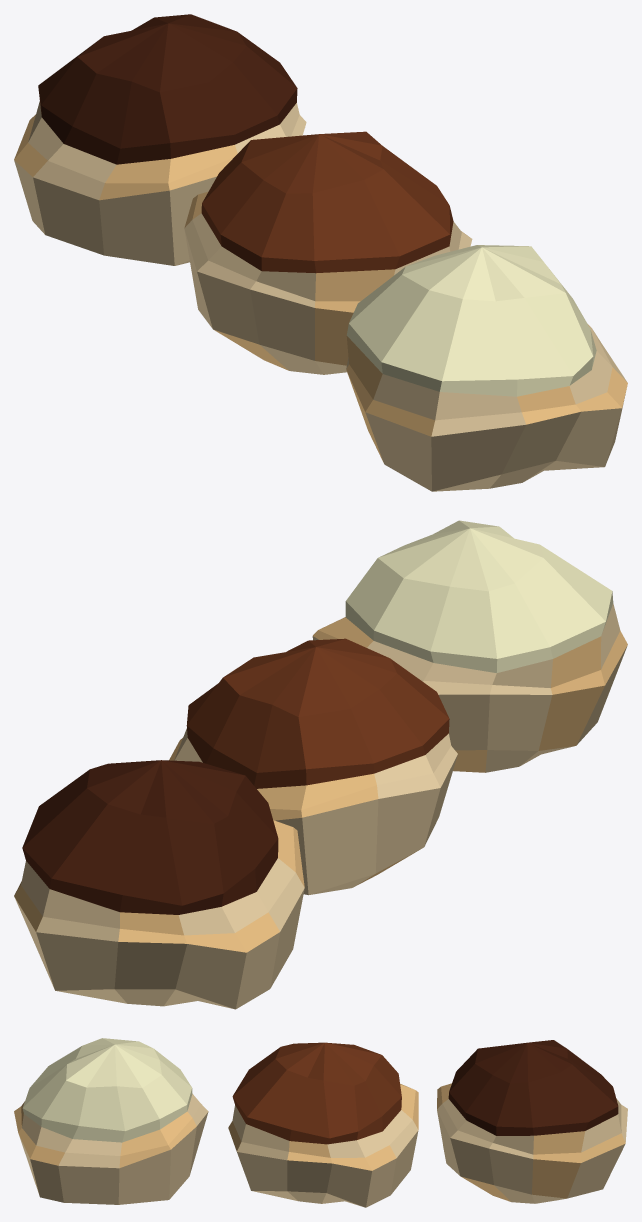
Rendered from ProfiteroleState0.fbx.
The picture shows the model from 3 angles, top to bottom: view 1: azimuth 30°, elevation 25°; view 2: azimuth 150°, elevation 25°; view 3: azimuth 270°, elevation 25°; orthographic projection. The views are drawn at different scales.
Parts seen in each view (by area): view 1: ProfiteroleState0; view 2: ProfiteroleState0; view 3: ProfiteroleState0.
Part boxes in pixels (x1=…): ProfiteroleState0: x1=14, y1=14, x2=627, y2=491; ProfiteroleState0: x1=14, y1=520, x2=627, y2=1009; ProfiteroleState0: x1=14, y1=1038, x2=627, y2=1207.
Size of the model in its own units: 46.96 by 37.69 by 147.
